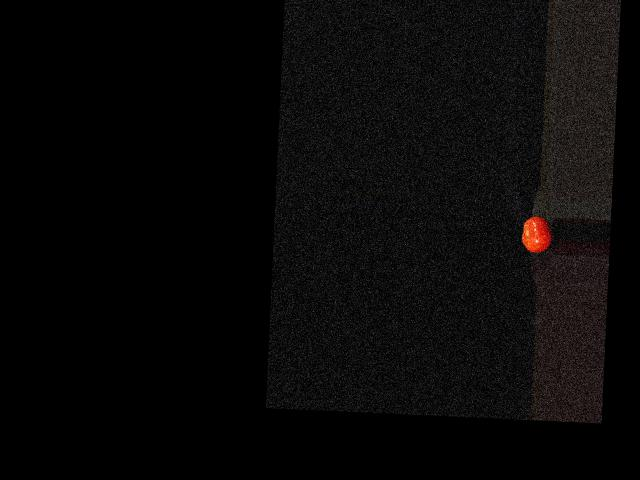tomato: (521, 215, 553, 254)
